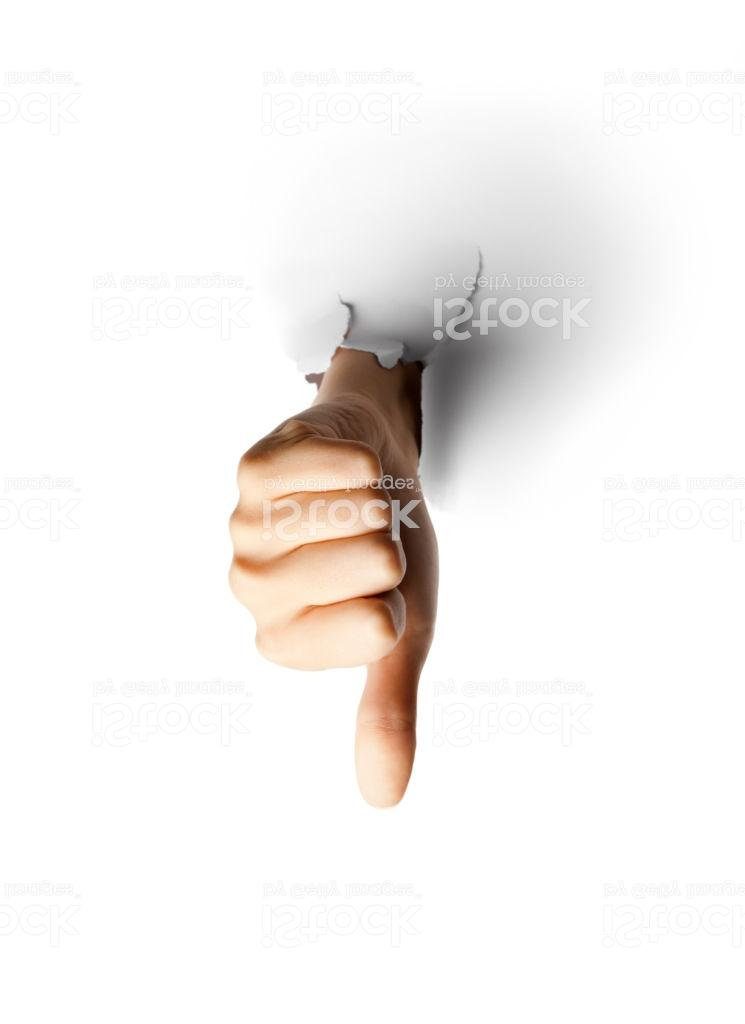thumbsdown: (227, 404, 443, 811)
